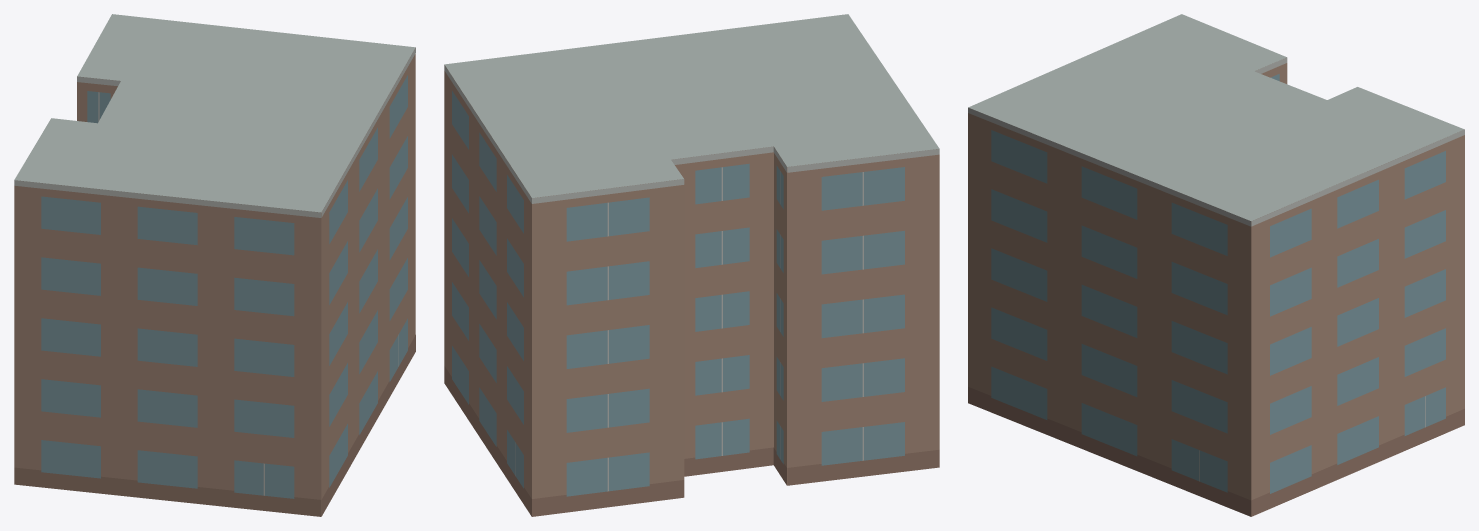
File: survey-upis-32885000.glb
3 renders of one model, left to right at view 1: azimuth 30°, elevation 25°; view 2: azimuth 150°, elevation 25°; view 3: azimuth 270°, elevation 25°, orthographic. The views are drawn at different scales.
Visible parts, largest first — view 1: survey-upis-32885000.tmp; view 2: survey-upis-32885000.tmp; view 3: survey-upis-32885000.tmp.
Boxes of the visible parts, bbox=[...] form: survey-upis-32885000.tmp: bbox=[14, 14, 415, 516]; survey-upis-32885000.tmp: bbox=[444, 14, 939, 516]; survey-upis-32885000.tmp: bbox=[968, 14, 1464, 516].
Size of the model in its own units: 19.85 by 13.2 by 20.11.
